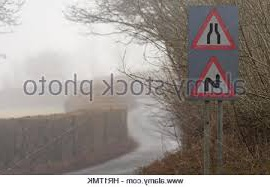Double_bend_right: (191, 57, 235, 99)
